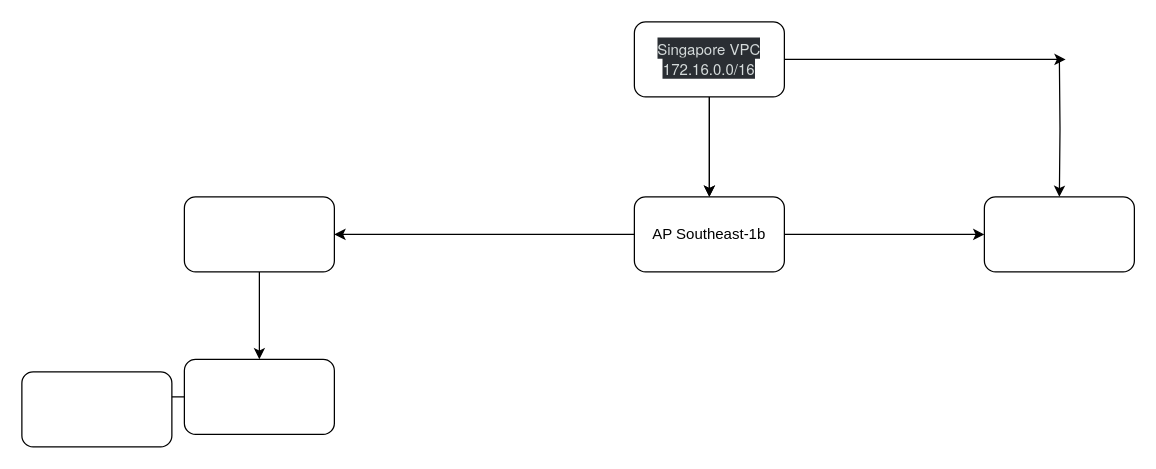
The diagram is 1156 pixels wide and 469 high, and some of its shapes have lost their labels. The centre of each missing label's shape, as x and y in pixels:
AP Southeast-1a: (258,234)
AP Southeast-1c: (1058,234)
